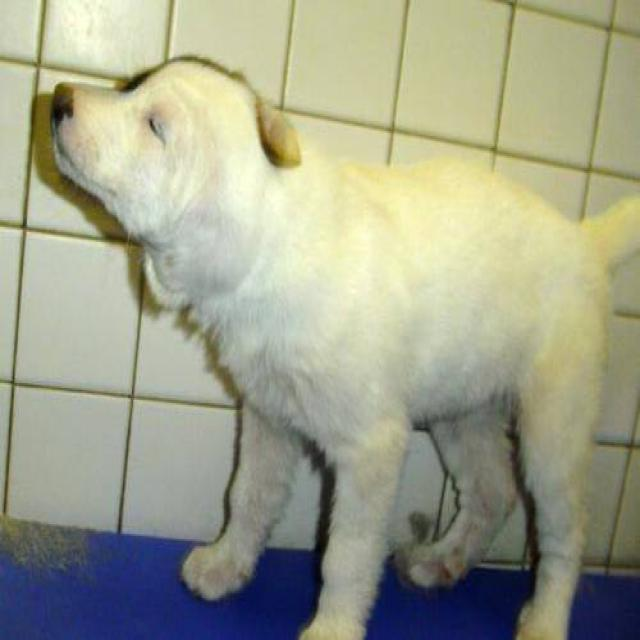dog: (49, 52, 638, 638)
